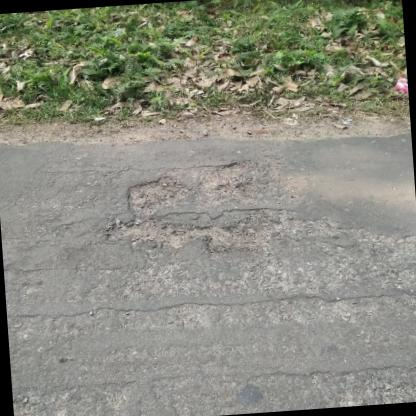pothole: (97, 155, 284, 264)
